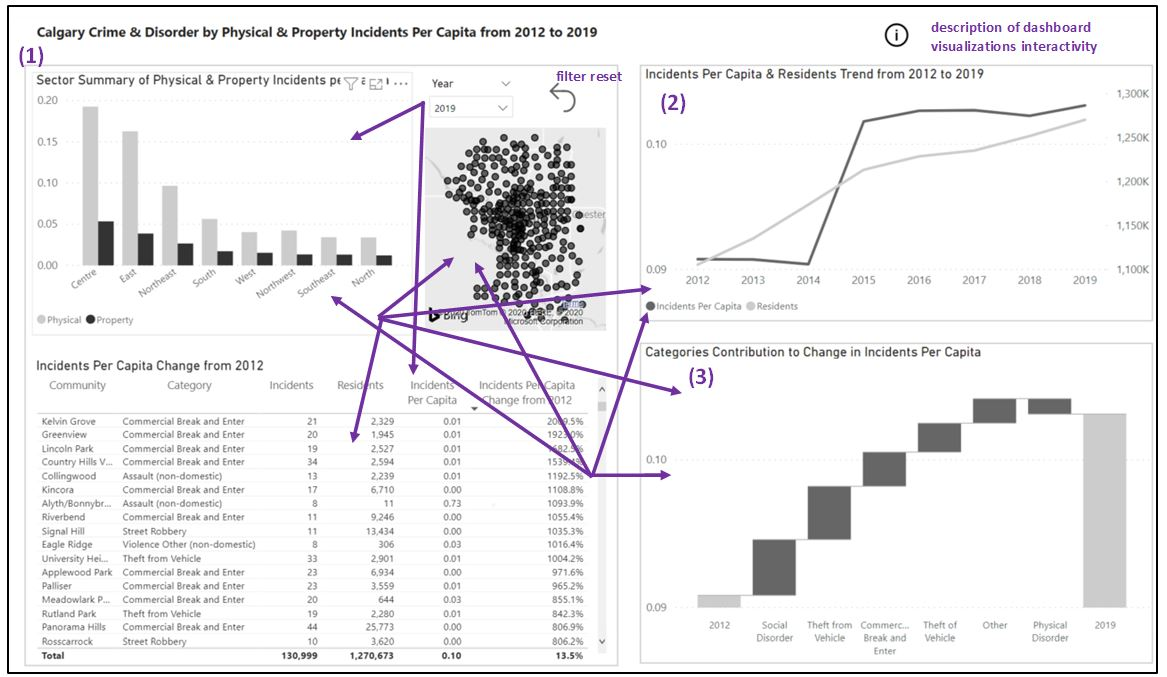

This screenshot's page, from the dashboard's own definition file:
{"tool":"powerbi","page":{"name":"Calgary Crime Statistics from 2012 to 2019","canvas":[1280,720],"ordinal":0},"visuals":[{"type":"basicShape","box":[24,72,648,640],"z":0},{"type":"clusteredColumnChart","title":"Incidents Per Capita: Sector and Nature of Crime","fields":{"Y":["tbl_measures.03 - Incidents Per Capita"],"Series":["dim_communities.Sector"],"Category":["dim_crime_disorder.Nature"]},"box":[32,80,416,296],"z":1000},{"type":"textbox","box":[200,5,350,40],"z":2000},{"type":"actionButton","box":[112,24,560,48],"z":3000},{"type":"slicer","fields":{"Values":["dim_years.Year"]},"box":[352,80,96,64],"z":4000},{"type":"lineChart","title":"Incidents Per Capita & Residents: Trend from 2012 to 2019","fields":{"Y2":["tbl_measures.02 - Residents Total"],"Y":["tbl_measures.03 - Incidents Per Capita"],"Category":["dim_years.Year"]},"box":[696,72,560,272],"z":5000},{"type":"esriVisual","box":[528,448,16,176],"z":6000},{"type":"map","fields":{"Y":["dim_communities.Latitude"],"X":["dim_communities.Longitude"]},"box":[448,75,216,296],"z":7000},{"type":"tableEx","fields":{"Values":["dim_communities.Sector","dim_communities.Community","dim_crime_disorder.Nature","dim_crime_disorder.Category","tbl_measures.02 - Residents Total","tbl_measures.01 - Incidents Total","tbl_measures.03 - Incidents Per Capita","tbl_measures.07 - Incidents Per Capita Change from Base Year"]},"box":[32,376,632,336],"z":8000},{"type":"actionButton","box":[1160,16,88,40],"z":9000},{"type":"waterfallChart","title":"Incidents Per Capita: Category Contribution to Change from 2012 to 2019","fields":{"Category":["dim_years.Year"],"Breakdown":["dim_crime_disorder.Category"],"Y":["tbl_measures.03 - Incidents Per Capita"]},"box":[696,360,560,352],"z":10000},{"type":"image","box":[8,0,112,48],"z":11000},{"type":"slicer","fields":{"Values":["dim_communities.Sector"]},"box":[688,0,120,64],"z":12000},{"type":"slicer","fields":{"Values":["dim_communities.Community"]},"box":[856,0,272,64],"z":13000}]}

Visuals, with their boxes in screenshot pixels (x1, y1, x2, y2):
basicShape: <bbox>4, 73, 608, 670</bbox>
"Incidents Per Capita: Sector and Nature of Crime" clusteredColumnChart: <bbox>12, 81, 399, 357</bbox>
textbox: <bbox>168, 11, 494, 48</bbox>
actionButton: <bbox>86, 28, 608, 73</bbox>
slicer - dim_years.Year: <bbox>310, 81, 399, 140</bbox>
"Incidents Per Capita & Residents: Trend from 2012 to 2019" lineChart: <bbox>631, 73, 1153, 327</bbox>
esriVisual: <bbox>474, 424, 489, 588</bbox>
map - dim_communities.Latitude x dim_communities.Longitude: <bbox>399, 76, 601, 352</bbox>
tableEx - dim_communities.Sector x dim_communities.Community: <bbox>12, 357, 601, 670</bbox>
actionButton: <bbox>1063, 21, 1145, 58</bbox>
"Incidents Per Capita: Category Contribution to Change from 2012 to 2019" waterfallChart: <bbox>631, 342, 1153, 670</bbox>
image: <bbox>0, 6, 94, 51</bbox>
slicer - dim_communities.Sector: <bbox>623, 6, 735, 66</bbox>
slicer - dim_communities.Community: <bbox>780, 6, 1033, 66</bbox>
